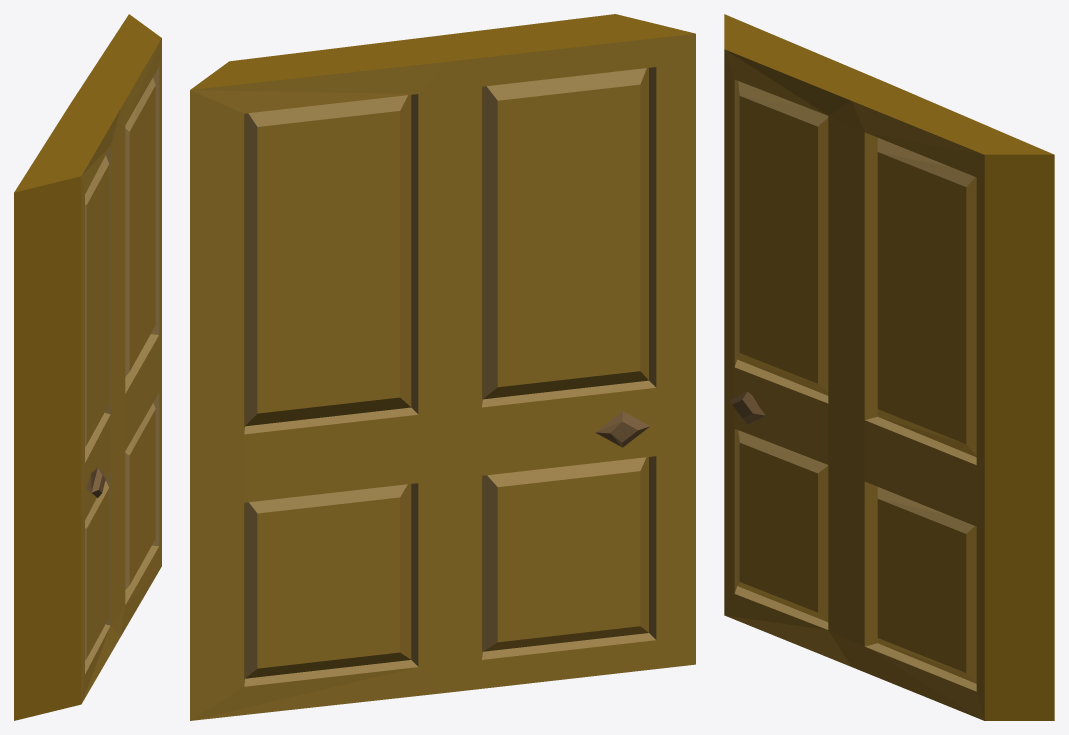
3 renders of one model, left to right at view 1: azimuth 30°, elevation 25°; view 2: azimuth 150°, elevation 25°; view 3: azimuth 270°, elevation 25°, orthographic. The views are drawn at different scales.
Size of the model in its own units: 128 by 240 by 127.
Materials: 1 (1 with a texture image).
